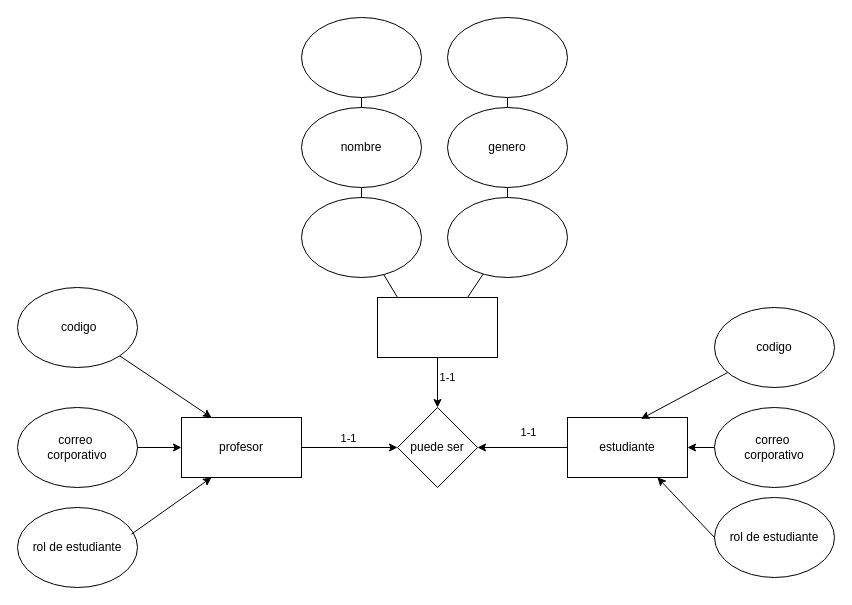
This 852x605 diagram has some shape labels left out. The shapes that lost their labels are listed below. From the top down, each one's centre as x and y in pixels, then its label:
pixel 361 57: apellido
pixel 507 57: edad
pixel 361 237: telefono
pixel 507 237: celular
pixel 437 327: persona
